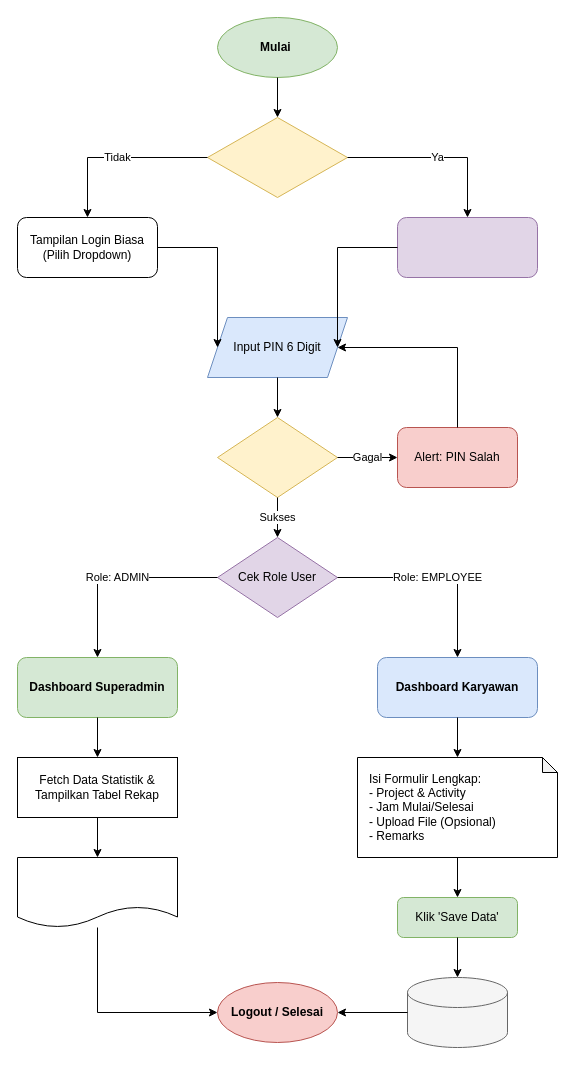
The diagram is 575 pixels wide and 1065 high, and some of its shapes have lost their labels. Here are the shapes that lost their labels. From the top down, the centre of each, then its label:
At pixel 277 157: "Cek Link WA? (?uid=...)".
At pixel 467 247: "Tampilan Magic Link (Nama Terkunci)".
At pixel 277 457: "Validasi API".
At pixel 97 892: "Lihat Status: ✅ Aman / ❌ Belum".
At pixel 457 1012: "Simpan ke Database".
